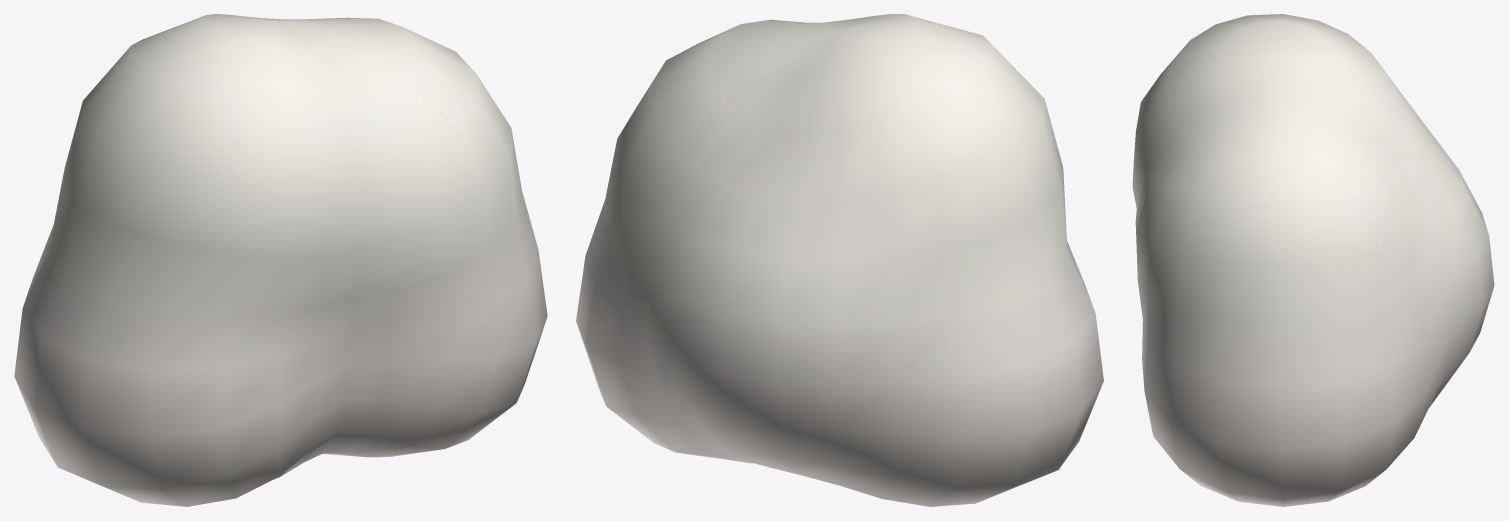
3 renders of one model, left to right at view 1: azimuth 30°, elevation 25°; view 2: azimuth 150°, elevation 25°; view 3: azimuth 270°, elevation 25°, orthographic. The views are drawn at different scales.
Parts seen in each view (by area): view 1: Steam_White_-_Crimson_Underglow; view 2: Steam_White_-_Crimson_Underglow; view 3: Steam_White_-_Crimson_Underglow.
Boxes of the visible parts, x1=… form: Steam_White_-_Crimson_Underglow: x1=14, y1=14, x2=547, y2=506; Steam_White_-_Crimson_Underglow: x1=576, y1=14, x2=1103, y2=506; Steam_White_-_Crimson_Underglow: x1=1132, y1=14, x2=1494, y2=506.
Bounding box in the file's own units: 0.94 × 0.8119 × 0.6867.
Materials: 1 (1 with a texture image).
